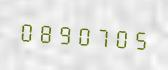eight: (36, 16, 54, 47)
five: (131, 23, 149, 54)
nine: (55, 18, 73, 49)
seven: (93, 20, 111, 51)
zero: (17, 15, 35, 46), (74, 19, 92, 50), (112, 22, 130, 53)
